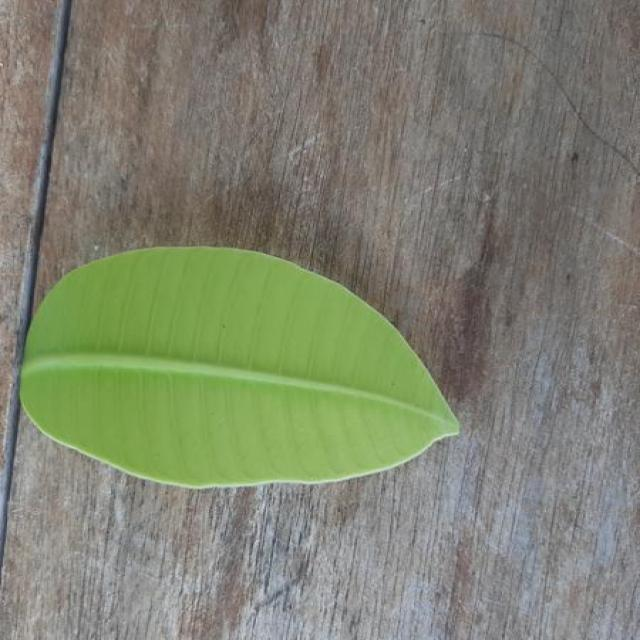mango: (22, 246, 458, 488)
